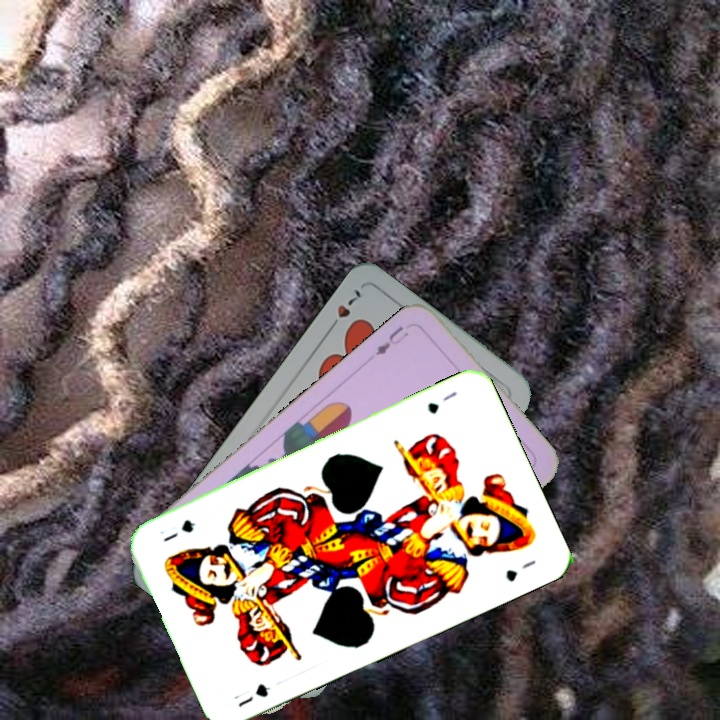EU: (371, 322, 412, 358)
GU: (229, 679, 273, 710), (423, 387, 460, 417)
H7: (324, 284, 364, 335)
